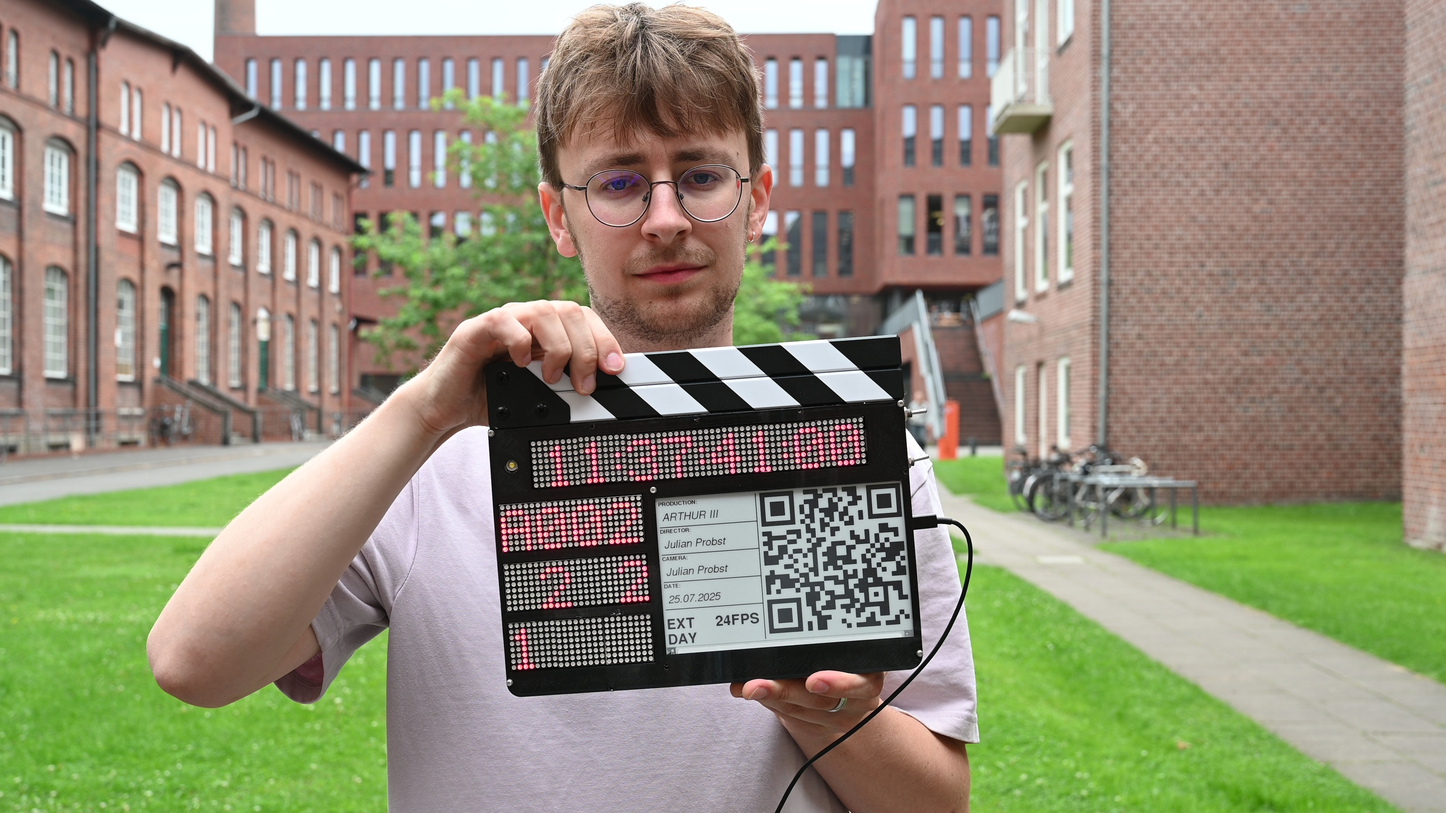ARC-SLATE: (485, 368, 926, 700)
